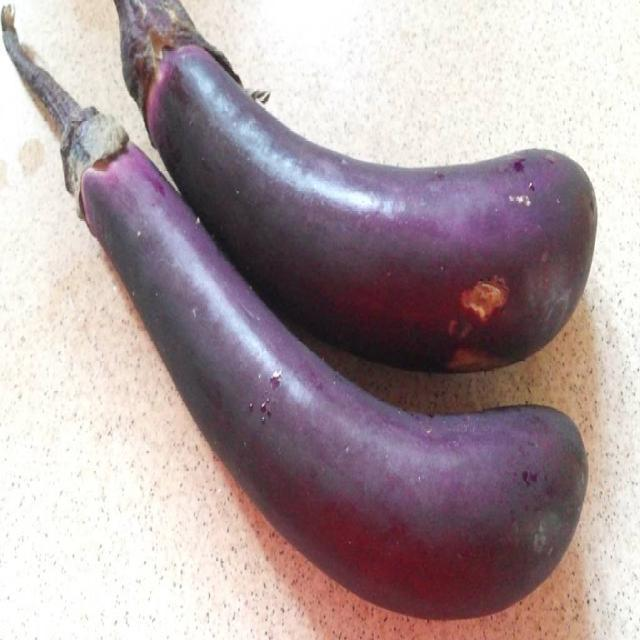eggplant: (41, 0, 596, 614), (62, 32, 620, 375)
